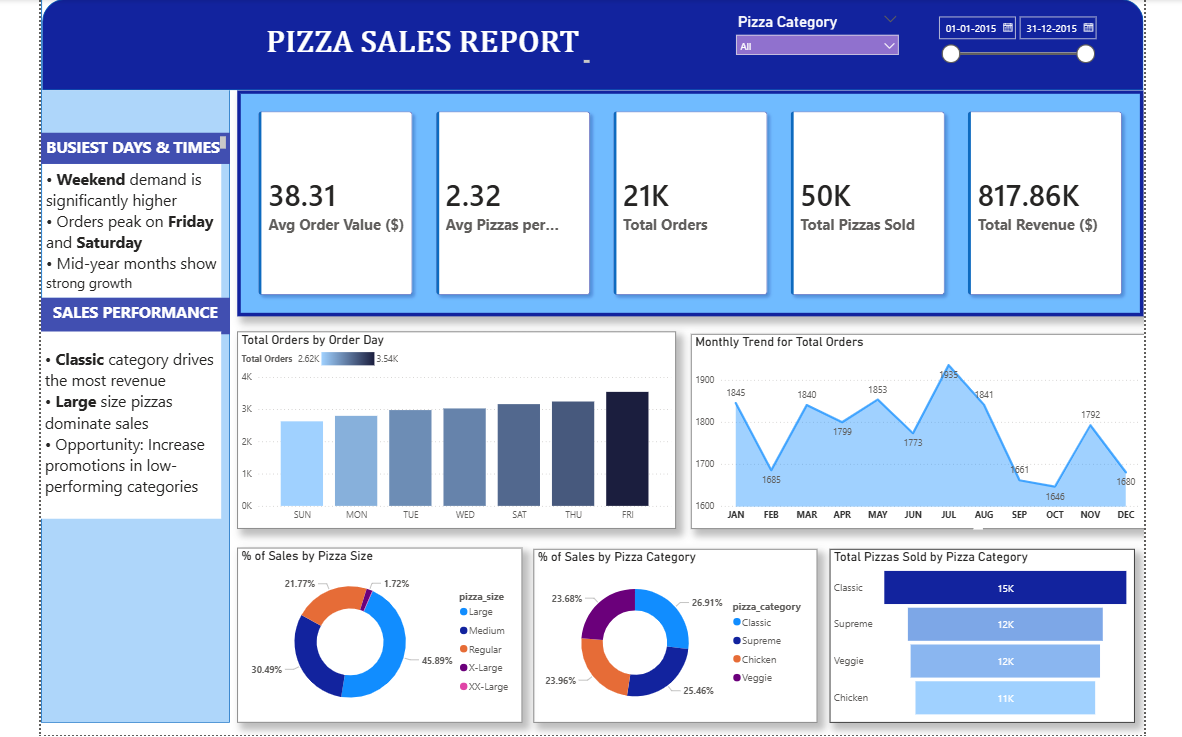

What the dashboard file says about the page in this screenshot:
{"tool":"powerbi","page":{"name":"Home","canvas":[1500,1000],"ordinal":0},"visuals":[{"type":"cardVisual","fields":{"Data":["pizza_sales.Avg Order Value","pizza_sales.Avg Pizzas per Order","pizza_sales.Total Orders","pizza_sales.Total Pizzas","pizza_sales.Total Revenue"]},"box":[266.6,124,1231.3,307.4],"z":0},{"type":"columnChart","fields":{"Category":["pizza_sales.Order Day"],"Y":["pizza_sales.Total Orders"]},"box":[266.6,451.8,596.1,268.3],"z":1000},{"type":"areaChart","title":"Monthly Trend for Total Orders","fields":{"Category":["pizza_sales.Order Month"],"Y":["pizza_sales.Total Orders"]},"box":[883.2,455.2,616.5,264.9],"z":2000},{"type":"qnaVisual","box":[1267.1,705.7,12.9,14.3],"z":3000},{"type":"donutChart","title":"% of Sales by  Pizza Category","fields":{"Category":["pizza_sales.pizza_category"],"Y":["pizza_sales.Total Revenue ($)"]},"box":[669.2,747.3,385.5,236.1],"z":4000},{"type":"donutChart","title":"% of Sales by  Pizza Size","fields":{"Category":["pizza_sales.pizza_size"],"Y":["pizza_sales.Total Revenue ($)"]},"box":[266.1,746.4,387.5,237.5],"z":5000},{"type":"funnel","title":"Total Pizzas Sold by Pizza Category","fields":{"Category":["pizza_sales.pizza_category"],"Y":["pizza_sales.Total Pizzas Sold"]},"box":[1071.7,747.3,414.4,236.1],"z":6000},{"type":"shape","box":[0,0,256.5,983.4],"z":7000},{"type":"textbox","box":[0,181.7,256.5,42.5],"z":8000},{"type":"textbox","box":[1.7,224.2,242.9,181.7],"z":9000},{"type":"textbox","box":[0,405.9,256.5,49.3],"z":10000},{"type":"textbox","box":[0,451.8,244.6,254.8],"z":11000},{"type":"shape","box":[1.7,0,1496.3,124],"z":12000},{"type":"slicer","fields":{"Values":["pizza_sales.pizza_category"]},"box":[934.1,13.6,241.2,98.5],"z":13000},{"type":"slicer","fields":{"Values":["pizza_sales.order_date"]},"box":[1207.5,13.6,232.7,98.5],"z":14000},{"type":"textbox","title":"PIZZA SALES REPORT","box":[300.6,34,450.1,57.7],"z":15000}]}

Visuals, with their boxes on the page's 1500x1000 design canvas (x1, y1, x2, y2). These are canvas units, not pixel positions in the 1182x737 screenshot, which may show the page scaled, cropped or inside an application window:
cardVisual - pizza_sales.Avg Order Value x pizza_sales.Avg Pizzas per Order: 267 124 1498 431
columnChart - pizza_sales.Order Day x pizza_sales.Total Orders: 267 452 863 720
"Monthly Trend for Total Orders" areaChart: 883 455 1500 720
qnaVisual: 1267 706 1280 720
"% of Sales by  Pizza Category" donutChart: 669 747 1055 983
"% of Sales by  Pizza Size" donutChart: 266 746 654 984
"Total Pizzas Sold by Pizza Category" funnel: 1072 747 1486 983
shape: 0 0 256 983
textbox: 0 182 256 224
textbox: 2 224 245 406
textbox: 0 406 256 455
textbox: 0 452 245 707
shape: 2 0 1498 124
slicer - pizza_sales.pizza_category: 934 14 1175 112
slicer - pizza_sales.order_date: 1208 14 1440 112
"PIZZA SALES REPORT" textbox: 301 34 751 92
